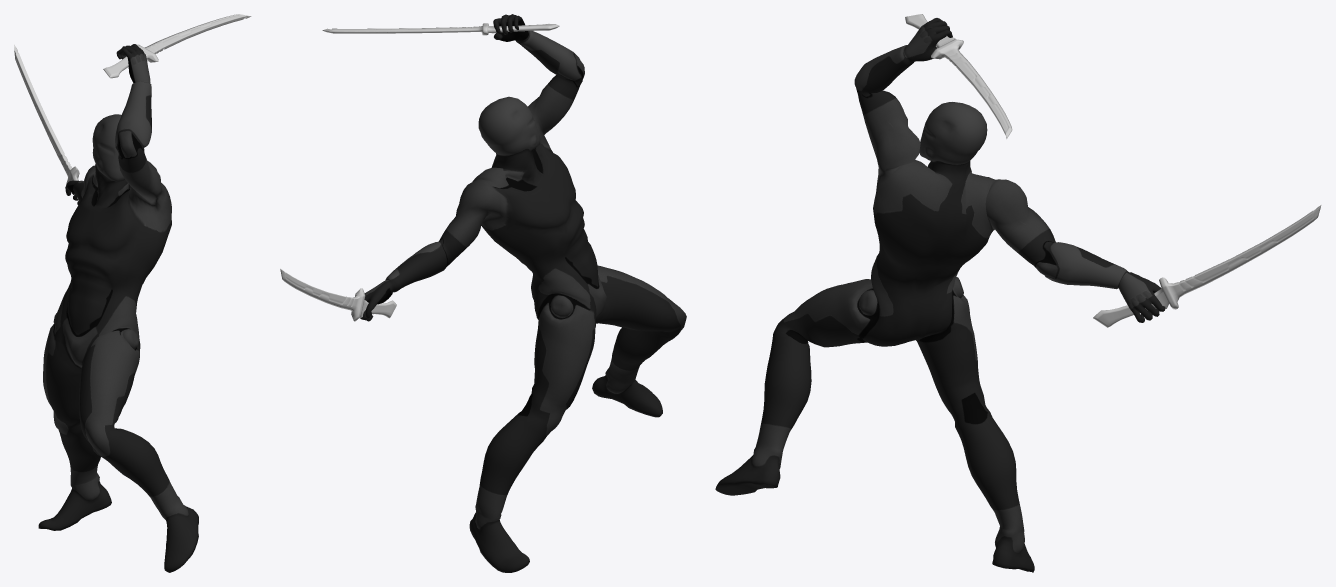
The picture shows the model from 3 angles, left to right: view 1: azimuth 30°, elevation 25°; view 2: azimuth 150°, elevation 25°; view 3: azimuth 270°, elevation 25°; orthographic projection. The views are drawn at different scales.
Parts seen in each view (by area): view 1: Cyborg_Ninja_Killer, Sword_l, Sword_l001; view 2: Cyborg_Ninja_Killer, Sword_l001, Sword_l; view 3: Cyborg_Ninja_Killer, Sword_l001, Sword_l.
Boxes of the visible parts, <box> form: Cyborg_Ninja_Killer: <box>38,44,198,572</box>; Sword_l: <box>103,14,251,78</box>; Sword_l001: <box>14,44,79,199</box>; Cyborg_Ninja_Killer: <box>360,14,686,572</box>; Sword_l001: <box>280,268,396,321</box>; Sword_l: <box>322,23,559,35</box>; Cyborg_Ninja_Killer: <box>715,18,1165,572</box>; Sword_l001: <box>1093,205,1321,327</box>; Sword_l: <box>905,14,1012,138</box>.
Bounding box in the file's own units: 113 × 212 × 204.
